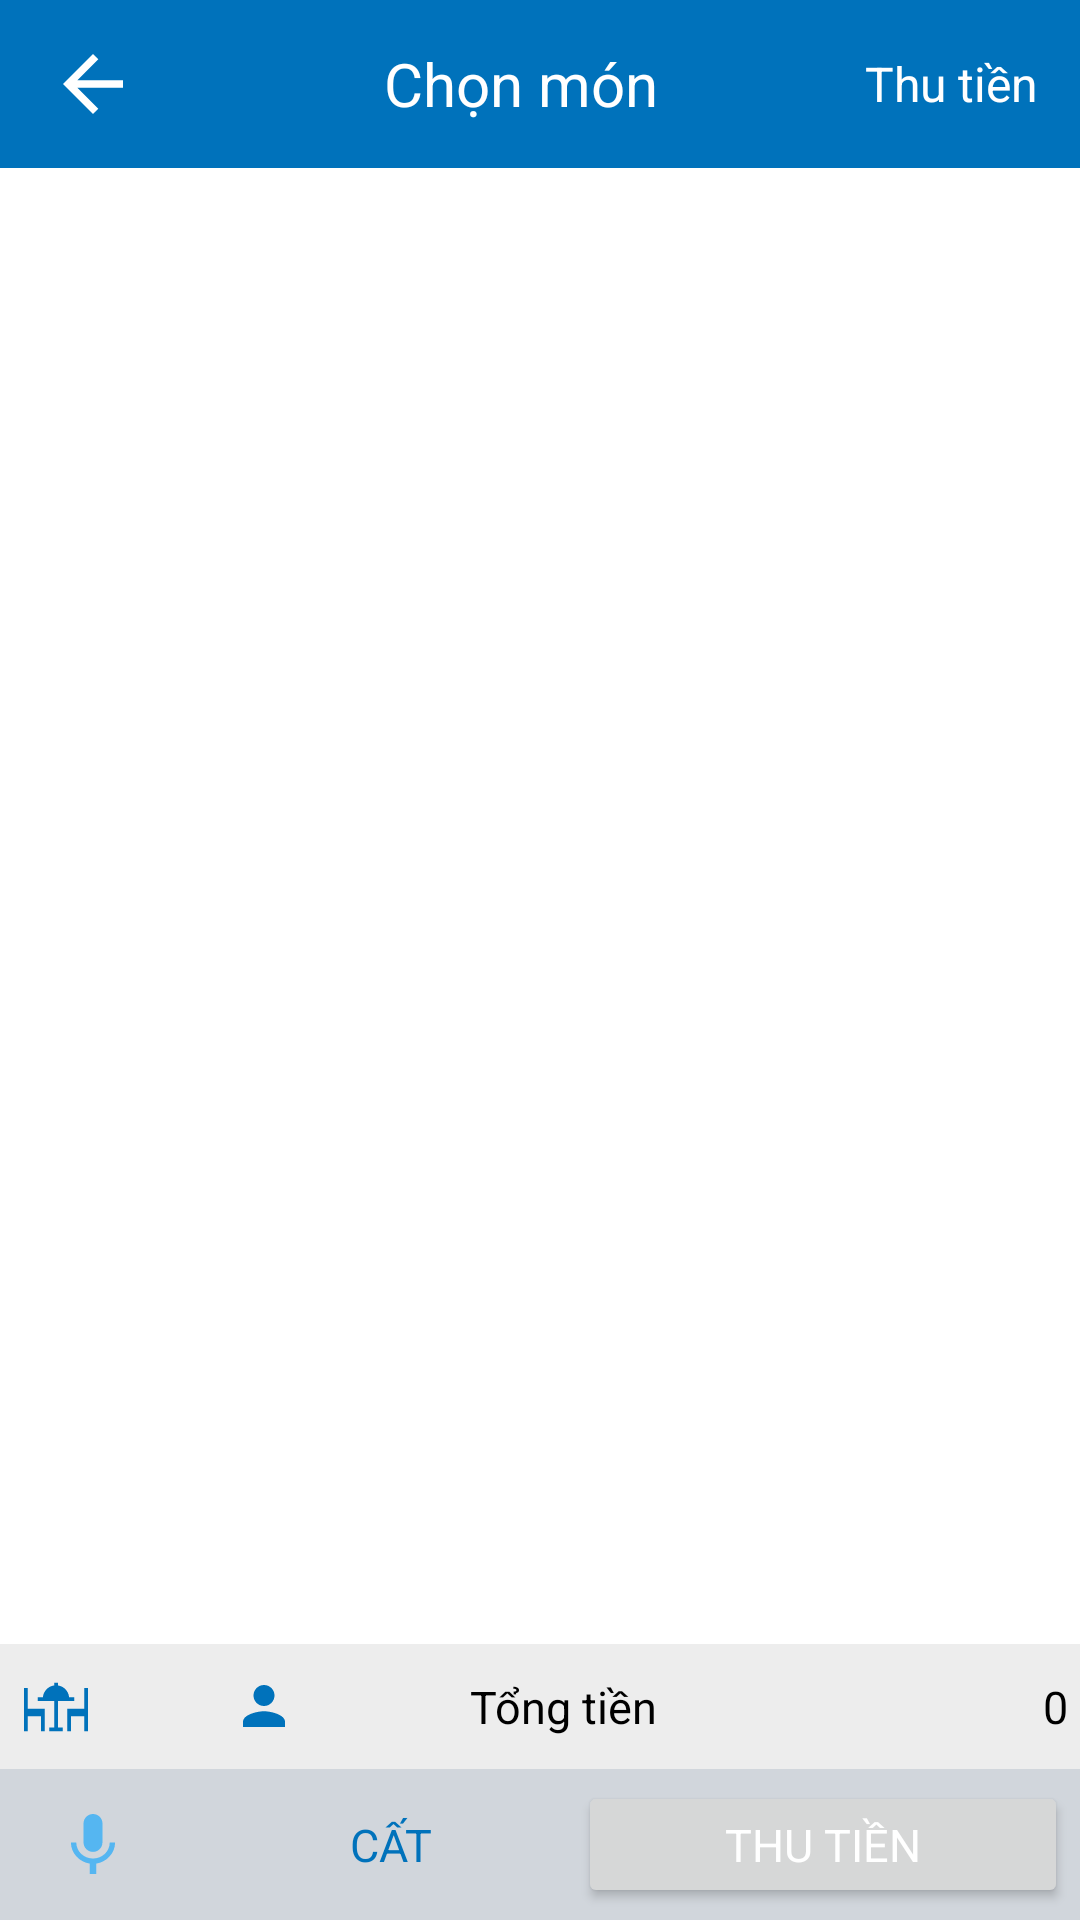

Screen size 1080 x 1920. Icon name, then its box in pixels as box=[x1, y1, x2, y2]:
dining table: box=[24, 1682, 88, 1732]
user: box=[243, 1685, 285, 1727]
